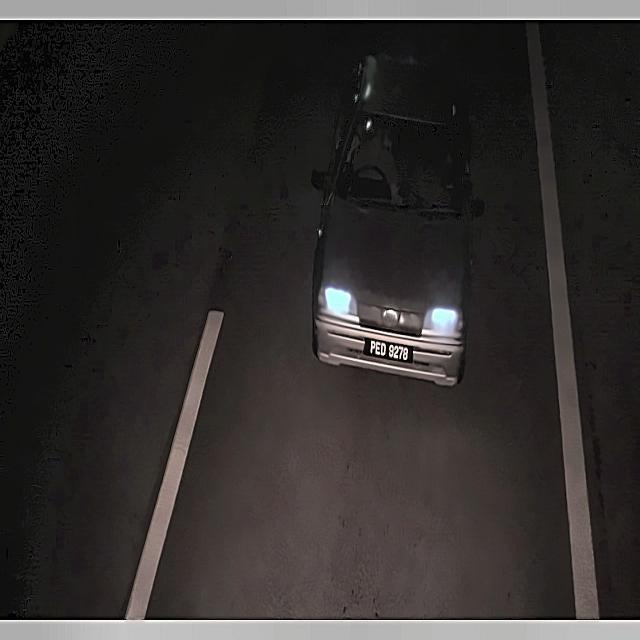car: (364, 333, 416, 371)
